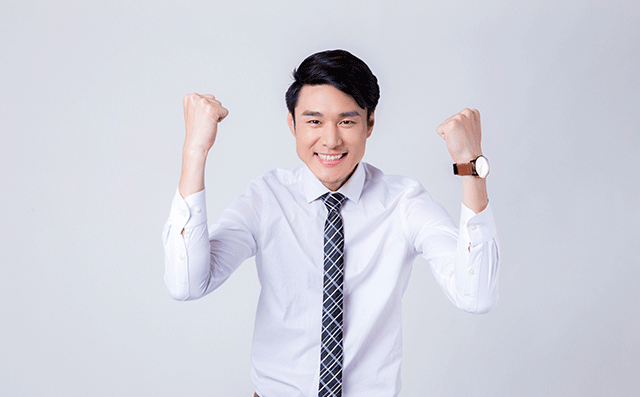no-phone: (180, 91, 228, 149), (435, 107, 487, 158)
